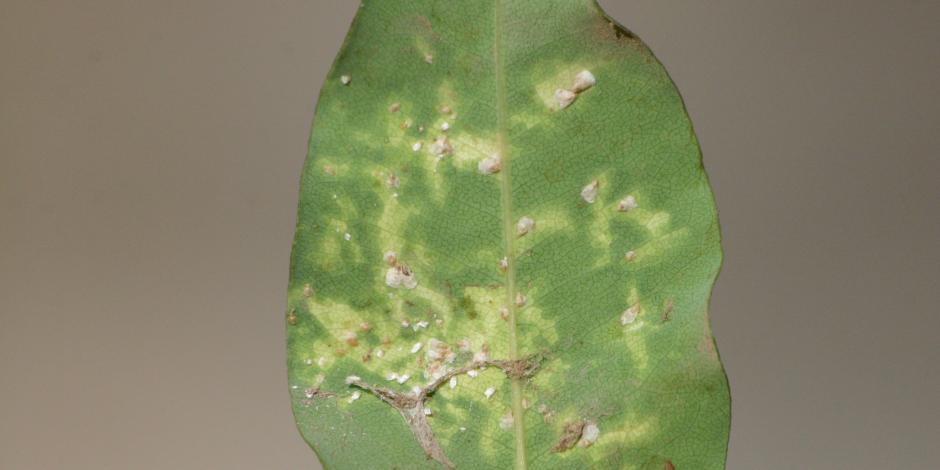BlackScale: (312, 67, 654, 464)
